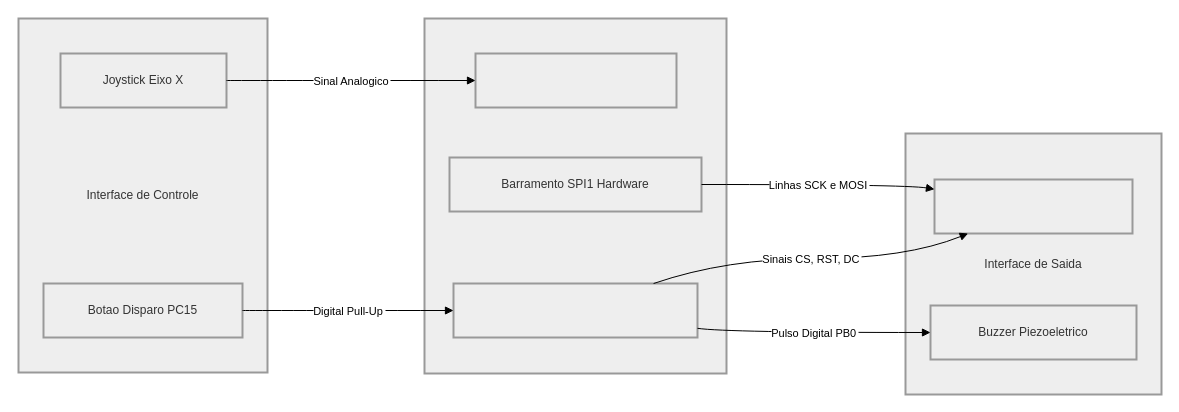
Some shapes in this 1179 by 412 pixel diagram are drawn without their labels. The shapes that lost their labels are listed below. From the top down, each one's centre as x and y in pixels, then its label:
At (575,80): "Modulo ADC1 + DMA".
At (1033,206): "Display LCD ST7735".
At (575,310): "Portas GPIO Input/Output".
